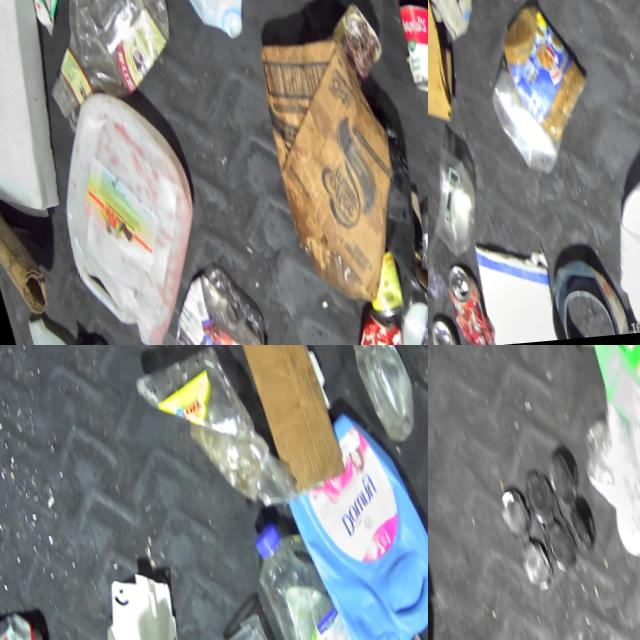can: (380, 0, 428, 118), (429, 259, 483, 345), (336, 317, 404, 345), (428, 309, 456, 345)
milk_jug: (23, 91, 219, 345), (583, 163, 640, 340), (137, 0, 257, 55), (9, 316, 110, 345)
non_white_jug: (279, 459, 428, 640), (552, 345, 640, 506)
plastic_bottle: (9, 0, 185, 125), (133, 264, 282, 345)
